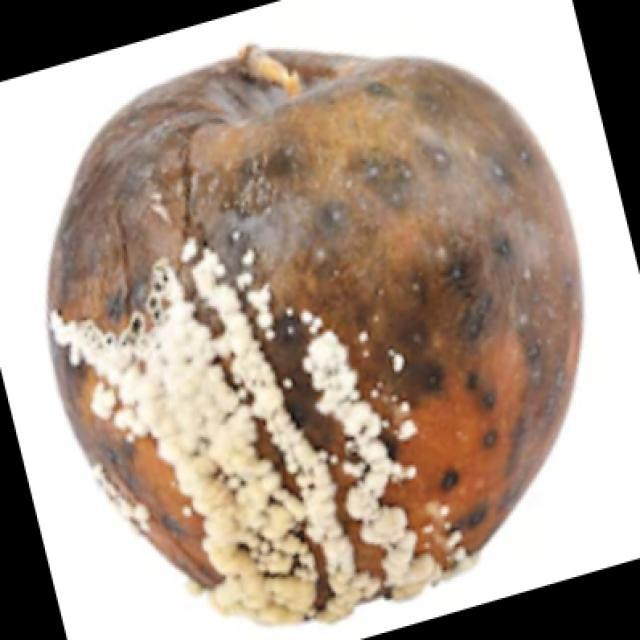Rotten: (46, 52, 576, 608)
